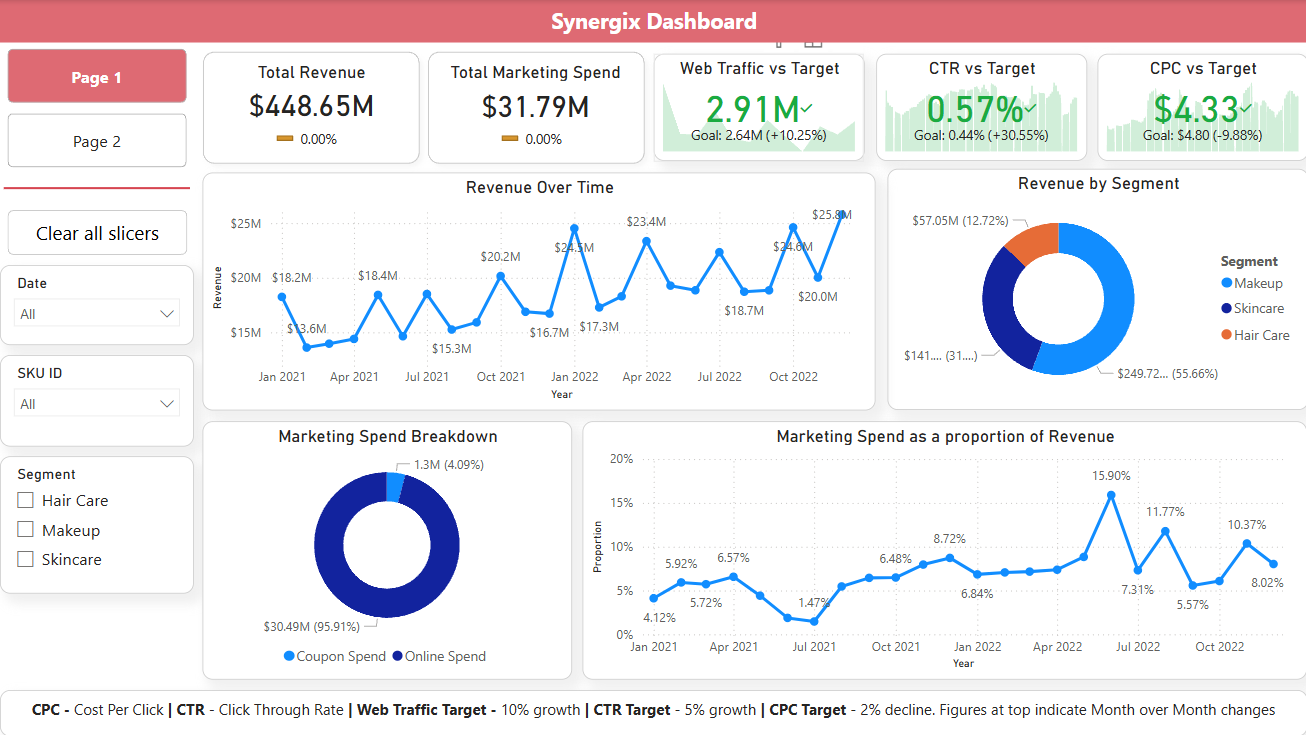

This screenshot's page, from the dashboard's own definition file:
{"tool":"powerbi","page":{"name":"Page 1","canvas":[1280,720],"ordinal":0},"visuals":[{"type":"shape","box":[409.5,41.7,230,127.6],"z":0},{"type":"shape","box":[189.6,41.7,230,127.6],"z":1000},{"type":"slicer","fields":{"Values":["Date Table.Date.Variation.Date Hierarchy.Year","Date Table.Date.Variation.Date Hierarchy.Month"]},"box":[0.2,259.1,189.5,78.3],"z":2000},{"type":"slicer","fields":{"Values":["SKU Codes.SKU_ID"]},"box":[0.2,347.4,189.5,89.3],"z":3000},{"type":"kpi","title":"Web Traffic vs Target","fields":{"Goal":["Measures Table.Web Traffic Target"],"TrendLine":["Date Table.Date.Variation.Date Hierarchy.Month"],"Indicator":["Measures Table.Web Traffic Current Month"]},"box":[639.5,53.1,206,104.9],"z":4000},{"type":"kpi","title":"CTR vs Target","fields":{"Goal":["Measures Table.CTR Target"],"TrendLine":["Date Table.Date"],"Indicator":["Measures Table.Current CTR"]},"box":[856.9,53.1,206,104.9],"z":5000},{"type":"textbox","box":[0,0,1280.3,41.5],"z":6000},{"type":"kpi","title":"CPC vs Target","fields":{"Goal":["Measures Table.CPC Target"],"TrendLine":["Date Table.Date"],"Indicator":["Measures Table.CPC Current Month"]},"box":[1074.3,53.1,206,104.9],"z":7000},{"type":"donutChart","fields":{"Y":["Measures Table.Revenue"],"Category":["POS data.Segment"]},"box":[868.2,165.1,412.1,236],"z":8000},{"type":"slicer","fields":{"Values":["POS data.Segment"]},"box":[0.2,446.7,189.5,134.5],"z":9000},{"type":"actionButton","box":[7.6,205.1,176.1,44],"z":10000},{"type":"tableEx","fields":{"Values":["Measures Table.Revenue YoY % Change"]},"box":[259.1,92.3,93.5,65.7],"z":11000},{"type":"shape","box":[3.7,173.6,182.2,20.8],"z":12000},{"type":"pageNavigator","box":[7.6,48,175.7,117.5],"z":13000},{"type":"card","title":"Total Revenue","fields":{"Values":["Measures Table.Revenue"]},"box":[216.1,59.4,176.9,64.5],"z":14000},{"type":"tableEx","fields":{"Values":["Measures Table.Marketing Spend YoY % Change"]},"box":[479,92.3,91,65.7],"z":15000},{"type":"card","title":"Total Marketing Spend","fields":{"Values":["Measures Table.Total Marketing Spend"]},"box":[433.5,59.4,182,65.7],"z":16000},{"type":"lineChart","title":"Revenue Over Time","fields":{"Y":["Measures Table.Revenue"],"Category":["Date Table.Date.Variation.Date Hierarchy.Year","Date Table.Date.Variation.Date Hierarchy.Quarter","Date Table.Date.Variation.Date Hierarchy.Month"]},"box":[198.4,169.4,658.5,232.5],"z":17000},{"type":"donutChart","title":"Marketing Spend Breakdown","fields":{"Y":["Measures Table.Coupon Spend","Measures Table.Online Spend"]},"box":[198.4,412,361.5,252.8],"z":18000},{"type":"lineChart","title":"Marketing Spend as a proportion of Revenue","fields":{"Category":["Date Table.Date.Variation.Date Hierarchy.Year","Date Table.Date.Variation.Date Hierarchy.Quarter","Date Table.Date.Variation.Date Hierarchy.Month"],"Y":["Measures Table.Marketing Proportion Of Revenue"]},"box":[570,412,709,252.8],"z":19000},{"type":"textbox","box":[0,674.5,1279,45.5],"z":20000}]}

Visuals, with their boxes in screenshot pixels (x1, y1, x2, y2), scaled from the page's 1280x720 canvas onto the 1306x735 screenshot:
shape: bbox=[418, 43, 652, 173]
shape: bbox=[193, 43, 428, 173]
slicer - Date Table.Date.Variation.Date Hierarchy.Year x Date Table.Date.Variation.Date Hierarchy.Month: bbox=[0, 264, 194, 344]
slicer - SKU Codes.SKU_ID: bbox=[0, 355, 194, 446]
"Web Traffic vs Target" kpi: bbox=[652, 54, 863, 161]
"CTR vs Target" kpi: bbox=[874, 54, 1084, 161]
textbox: bbox=[0, 0, 1305, 42]
"CPC vs Target" kpi: bbox=[1096, 54, 1305, 161]
donutChart - Measures Table.Revenue x POS data.Segment: bbox=[886, 169, 1305, 409]
slicer - POS data.Segment: bbox=[0, 456, 194, 593]
actionButton: bbox=[8, 209, 187, 254]
tableEx - Measures Table.Revenue YoY % Change: bbox=[264, 94, 360, 161]
shape: bbox=[4, 177, 190, 198]
pageNavigator: bbox=[8, 49, 187, 169]
"Total Revenue" card: bbox=[220, 61, 401, 126]
tableEx - Measures Table.Marketing Spend YoY % Change: bbox=[489, 94, 582, 161]
"Total Marketing Spend" card: bbox=[442, 61, 628, 128]
"Revenue Over Time" lineChart: bbox=[202, 173, 874, 410]
"Marketing Spend Breakdown" donutChart: bbox=[202, 421, 571, 679]
"Marketing Spend as a proportion of Revenue" lineChart: bbox=[582, 421, 1305, 679]
textbox: bbox=[0, 689, 1305, 734]
